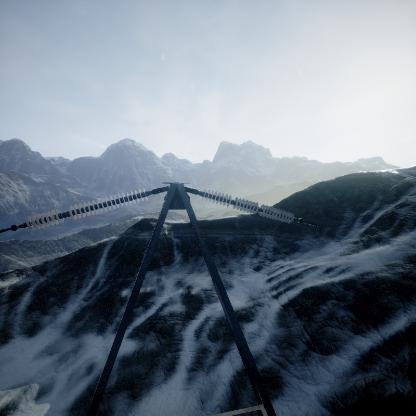insulator: (196, 179, 330, 225), (18, 186, 153, 230)
